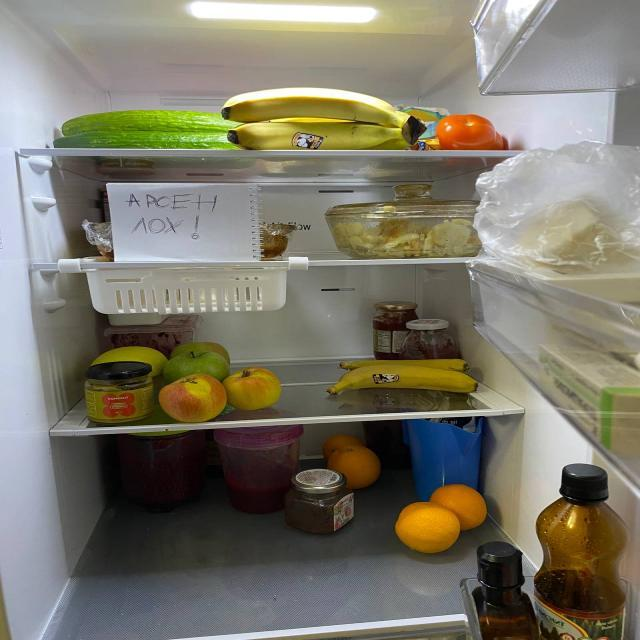Apple: (164, 375, 227, 415), (164, 354, 234, 376), (226, 372, 278, 401), (167, 340, 234, 356)
Banana: (206, 93, 428, 149), (326, 365, 482, 400)
Cucumber: (58, 111, 242, 133), (45, 131, 240, 150)
Orange: (397, 503, 459, 550), (428, 485, 488, 526), (334, 448, 382, 482), (326, 433, 366, 454)
Tomato: (429, 115, 491, 148), (494, 136, 512, 145)
